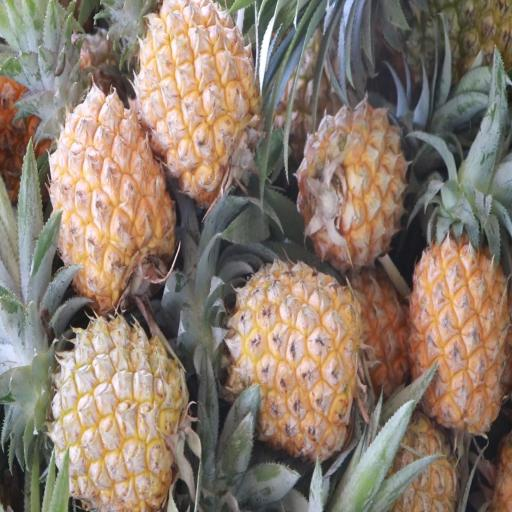Pineapple - v8 v1: (52, 308, 186, 511), (52, 88, 176, 300), (230, 258, 361, 456), (130, 0, 262, 191), (411, 226, 509, 428), (299, 101, 405, 265)
